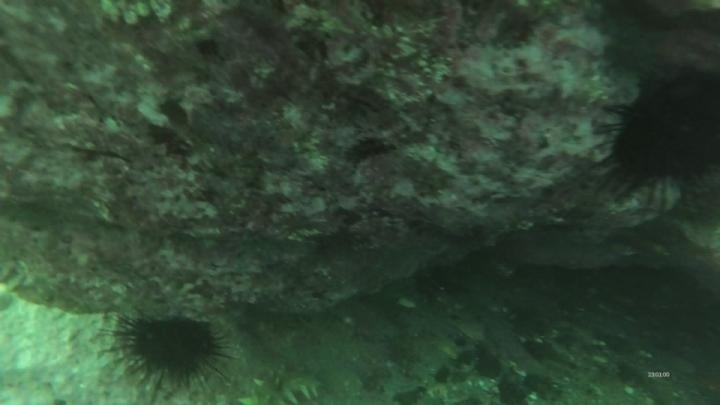echinus: (601, 64, 720, 198), (109, 307, 235, 396)
holothurian: (235, 367, 328, 405)
